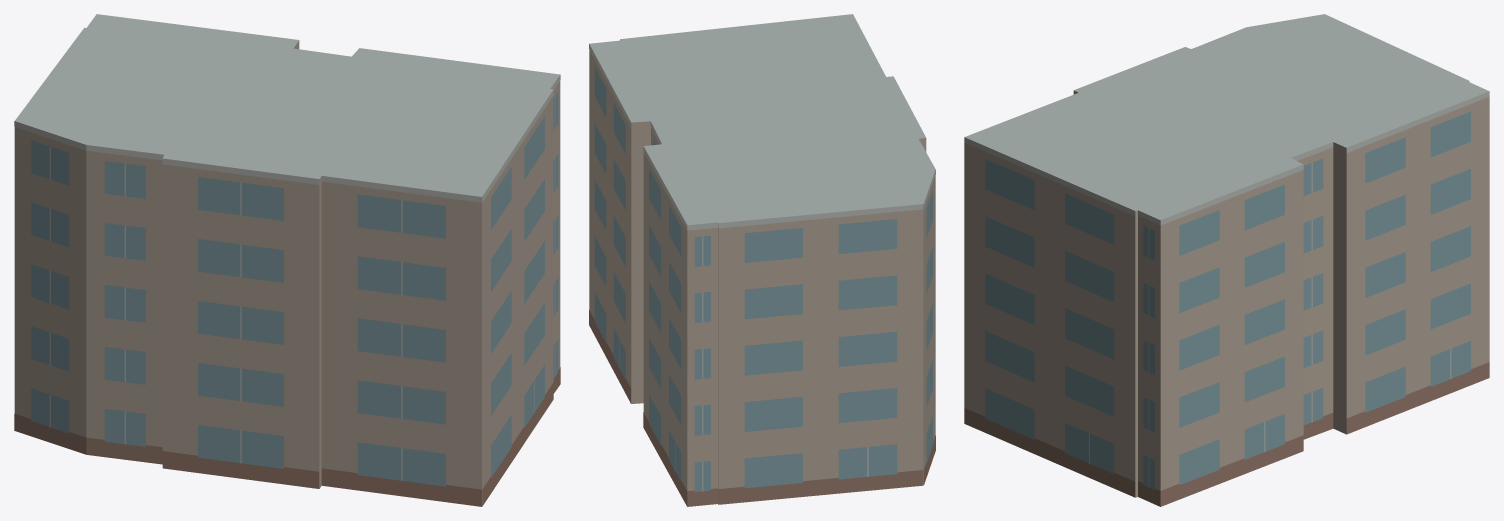
The model's file is survey-upis-32921352.glb.
The picture shows the model from 3 angles, left to right: view 1: azimuth 30°, elevation 25°; view 2: azimuth 150°, elevation 25°; view 3: azimuth 270°, elevation 25°; orthographic projection. The views are drawn at different scales.
Parts seen in each view (by area): view 1: survey-upis-32921352.tmp; view 2: survey-upis-32921352.tmp; view 3: survey-upis-32921352.tmp.
Part boxes in pixels (left/top/right/bottom): survey-upis-32921352.tmp: left=14, top=14, right=560, bottom=506; survey-upis-32921352.tmp: left=589, top=14, right=935, bottom=506; survey-upis-32921352.tmp: left=964, top=14, right=1489, bottom=506.
Bounding box in the file's own units: 20.07 × 13 × 21.59.
